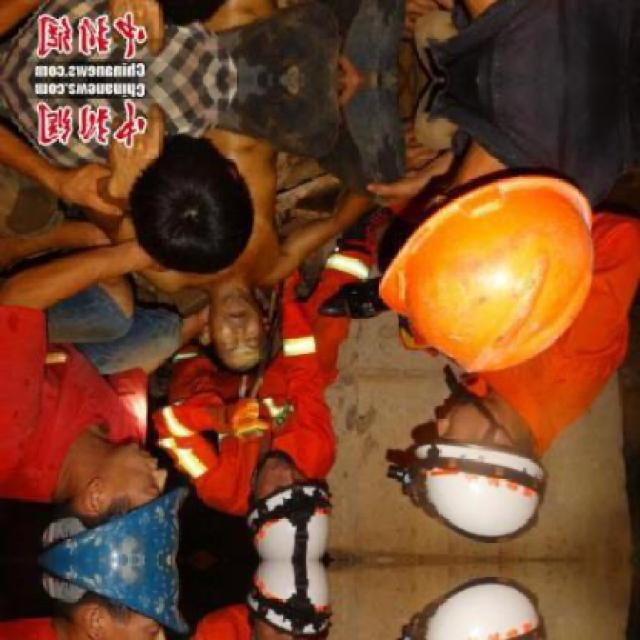con casco: (396, 142, 590, 370), (403, 390, 547, 536), (30, 450, 176, 578), (237, 480, 336, 570)
sin casco: (192, 278, 302, 370)
